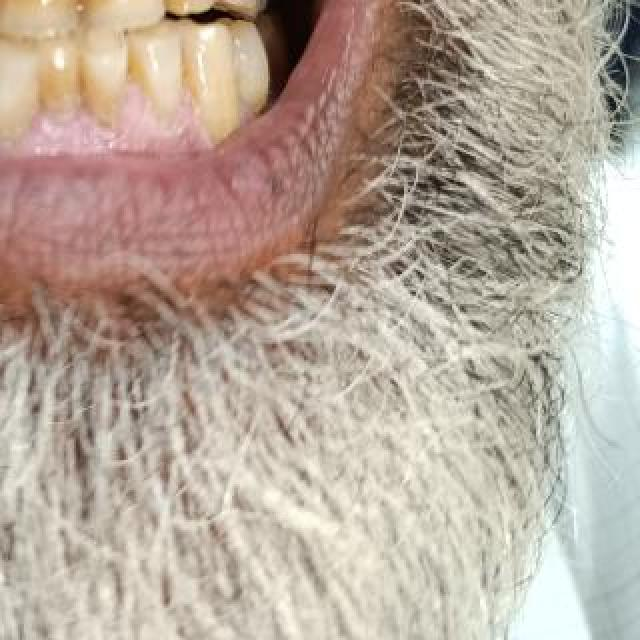plaque: (176, 49, 226, 145)
stains: (123, 36, 173, 126), (83, 49, 123, 125), (41, 49, 79, 121), (0, 0, 76, 30), (86, 0, 154, 18)
